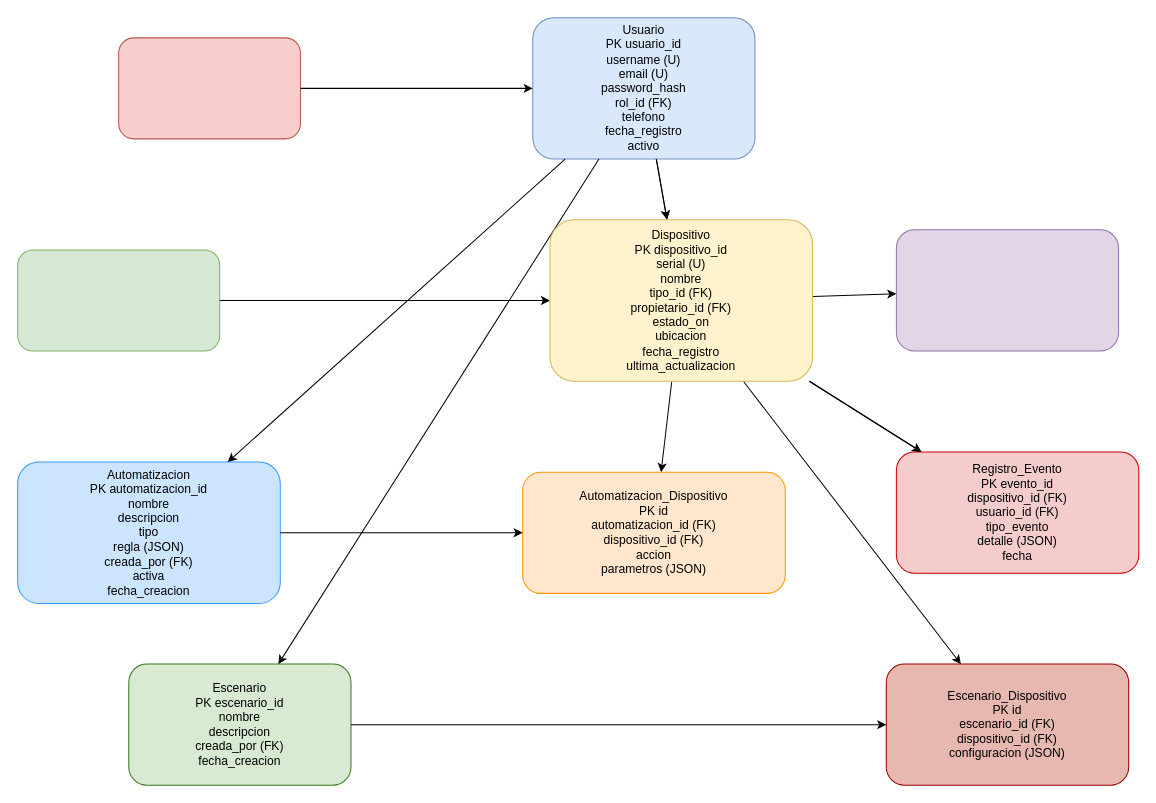
This 1156x803 diagram has some shape labels left out. Here are the shapes that lost their labels. From the top down, the centre of each, then its label:
[209,88]: Rol PK rol_id nombre (U) descripcion
[118,300]: Tipo_Dispositivo PK tipo_id nombre (U) descripcion
[1007,290]: Dispositivo_Config PK config_id dispositivo_id (FK) clave valor tipo_valor
